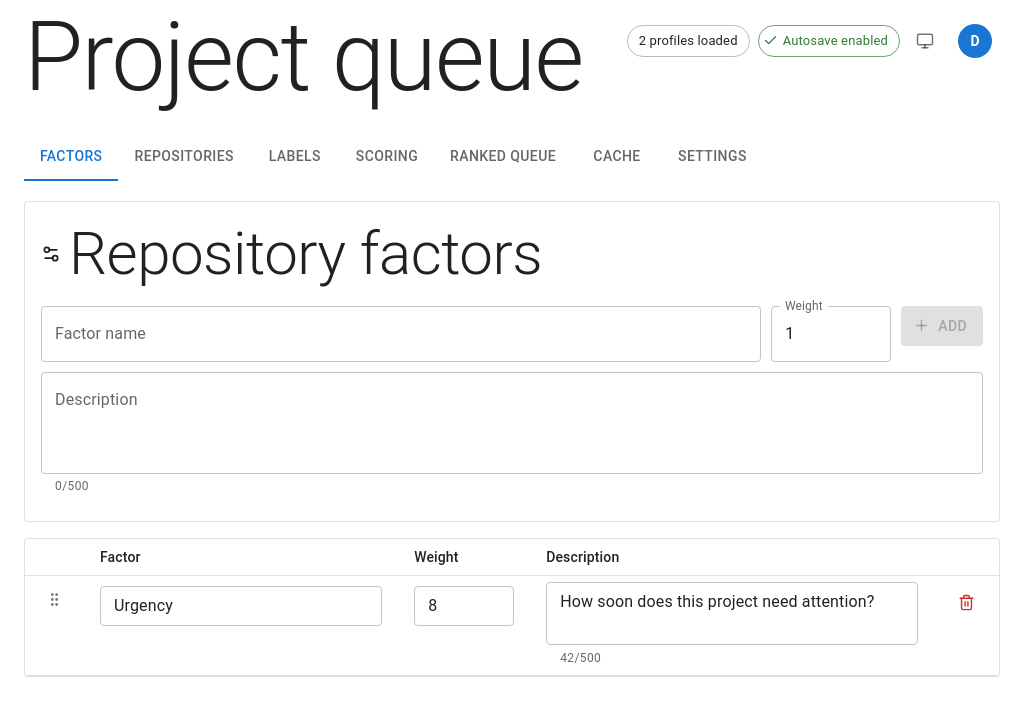
Test: App › reconciles labels from repositories and uses drag and move controls for one unique label order
The width and height of the screenshot is (1024, 713).
Expected: the text "Autosave enabled" is shown, [783,33,888,48]
What coordinates should you click on to do the following:
click the tab "Labels"
I would click on:
 (295, 157)
Its box is [250,133,340,181].
(page scrolled)
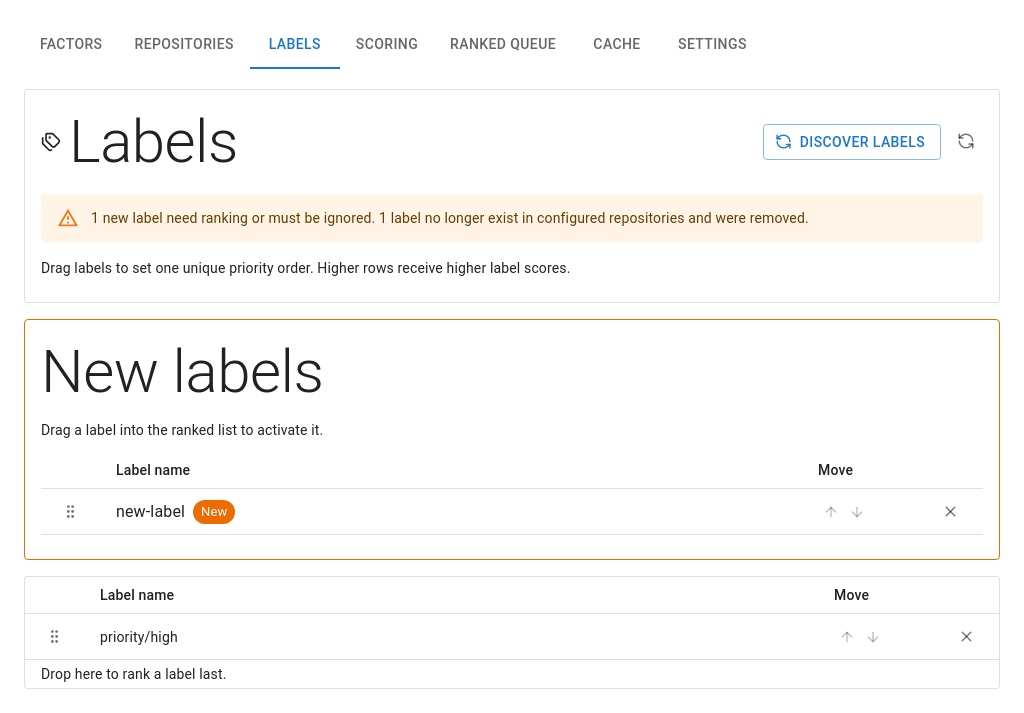
Expected: the heading "New labels" is shown, [41,336,323,407]
Expected: the text "new-label" is shown, [116,500,185,524]
Expected: the text "New" is shown, [201,504,228,519]
